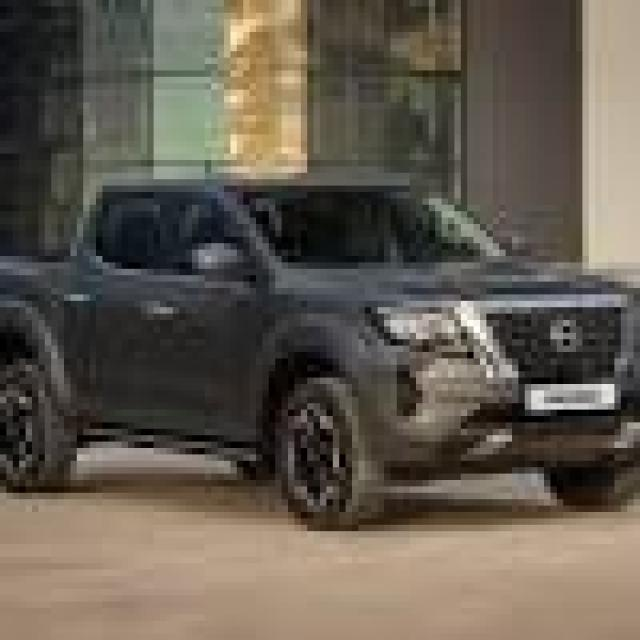Pickup Trucks: (6, 185, 634, 538)
